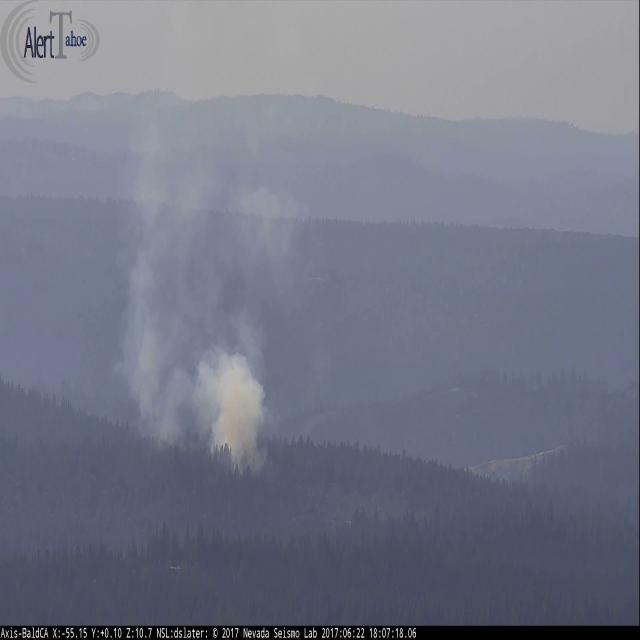smoke: (112, 94, 311, 475)
